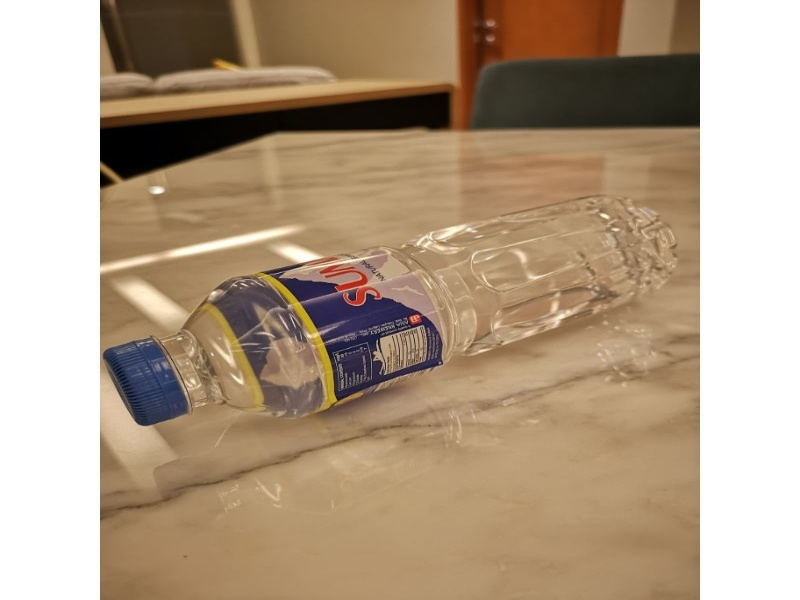PET #1: (105, 188, 685, 428)
